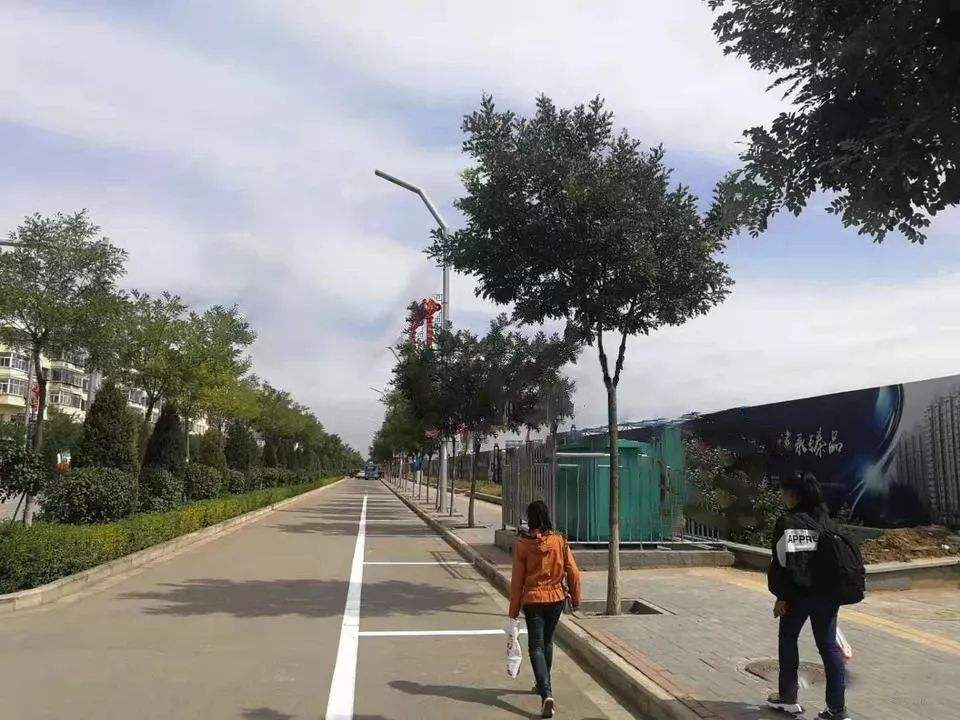slot_nocar: (306, 606, 670, 720), (318, 550, 571, 648), (350, 523, 489, 574), (344, 484, 452, 532)
